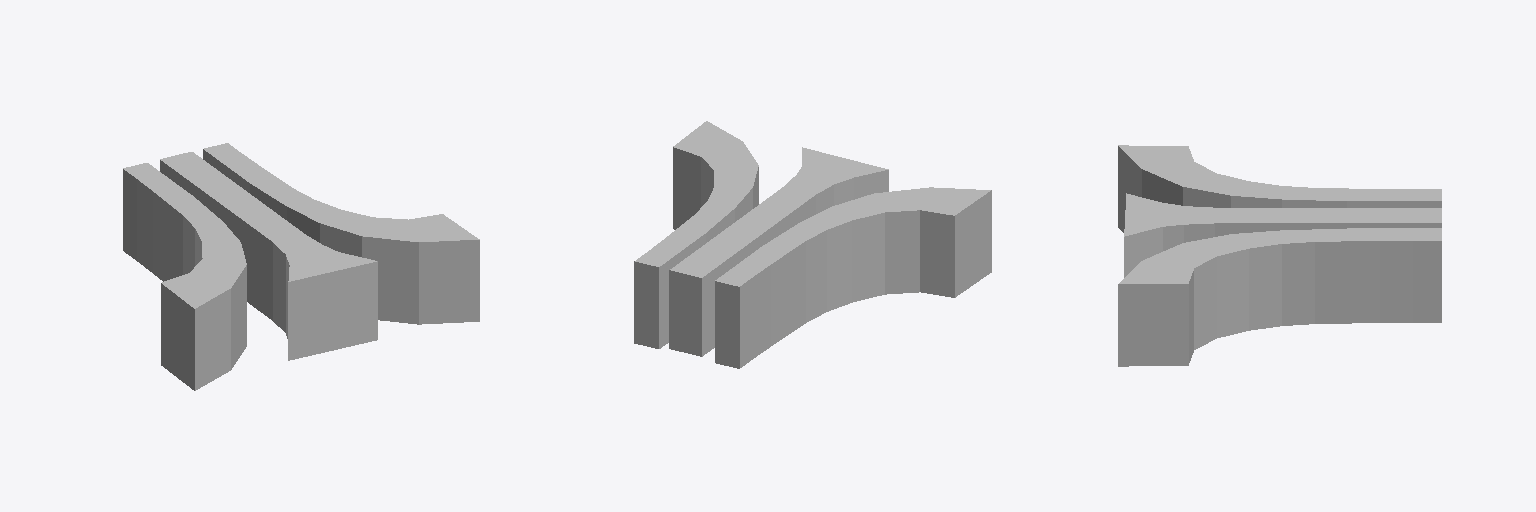
The model's file is atari-2.obj.
3 views of the same model, side by side, from view 1: azimuth 30°, elevation 25°; view 2: azimuth 150°, elevation 25°; view 3: azimuth 270°, elevation 25° (orthographic).
Parts seen in each view (by area): view 1: Cube_Cube.001, Cube.001_Cube.002, Cube.002_Cube.000; view 2: Cube_Cube.001, Cube.001_Cube.002, Cube.002_Cube.000; view 3: Cube.002_Cube.000, Cube_Cube.001, Cube.001_Cube.002.
Boxes of the visible parts, box(x1,y1,x2,y2) form: Cube_Cube.001: box(123, 163, 246, 390); Cube.001_Cube.002: box(160, 152, 377, 360); Cube.002_Cube.000: box(203, 143, 479, 324); Cube_Cube.001: box(715, 187, 991, 368); Cube.001_Cube.002: box(669, 147, 888, 356); Cube.002_Cube.000: box(634, 121, 758, 348); Cube.002_Cube.000: box(1118, 228, 1441, 366); Cube_Cube.001: box(1118, 145, 1441, 232); Cube.001_Cube.002: box(1124, 193, 1441, 277).
Size of the model in its own units: 12.09 by 3.33 by 11.93.